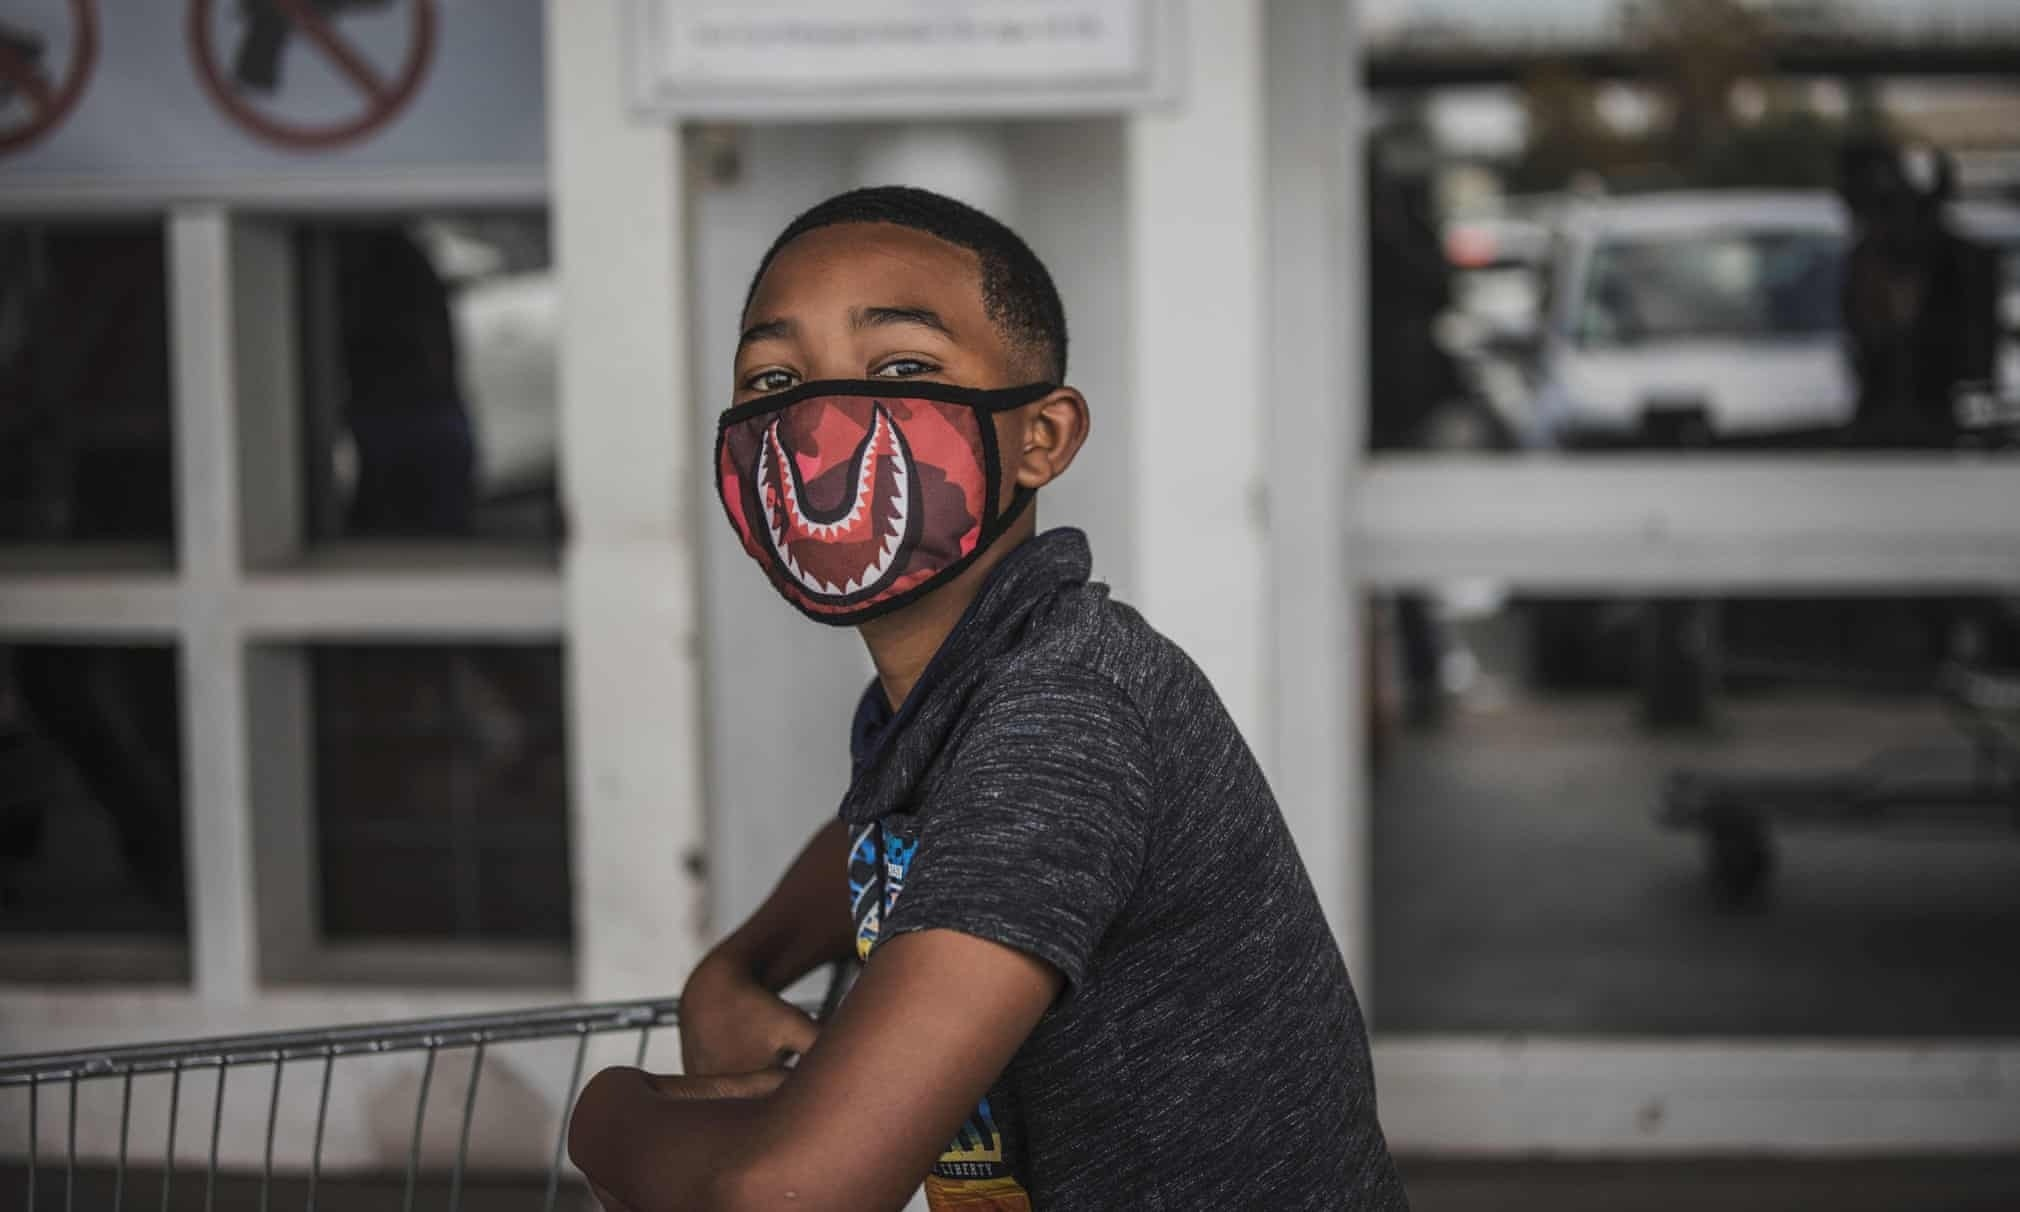face_with_mask: (710, 188, 1086, 625)
